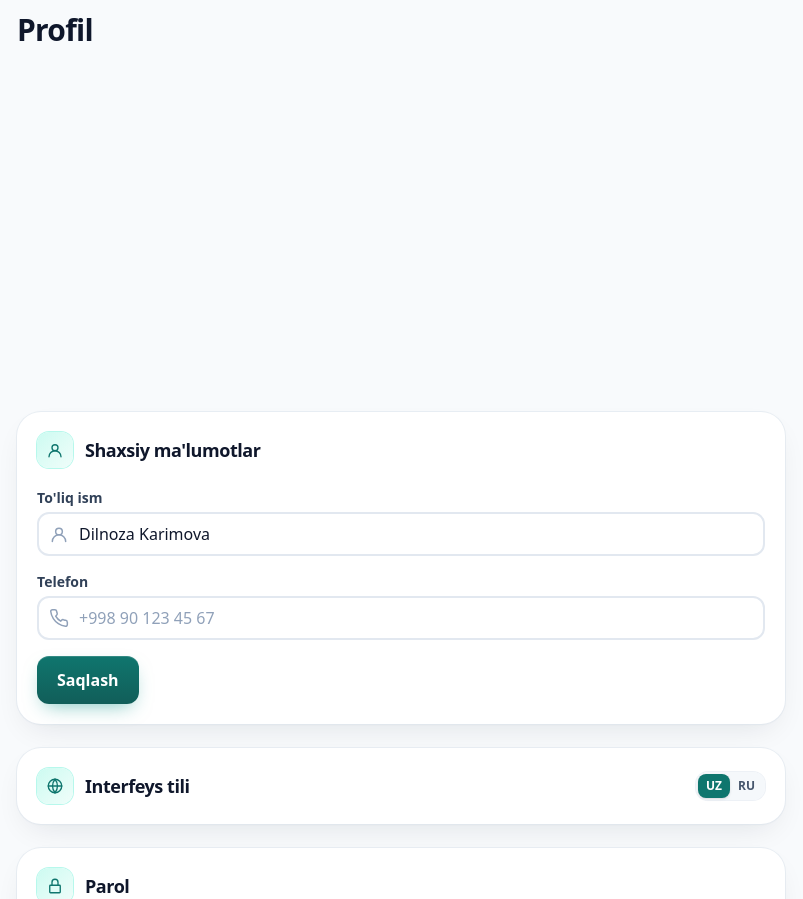
Test case: ism 2 belgidan kam bo'lsa xato ko'rsatiladi va so'rov yuborilmaydi
Replace the text in the field labelled "To'liq ism" with "A" at x=401, y=534, box [37, 512, 765, 556]
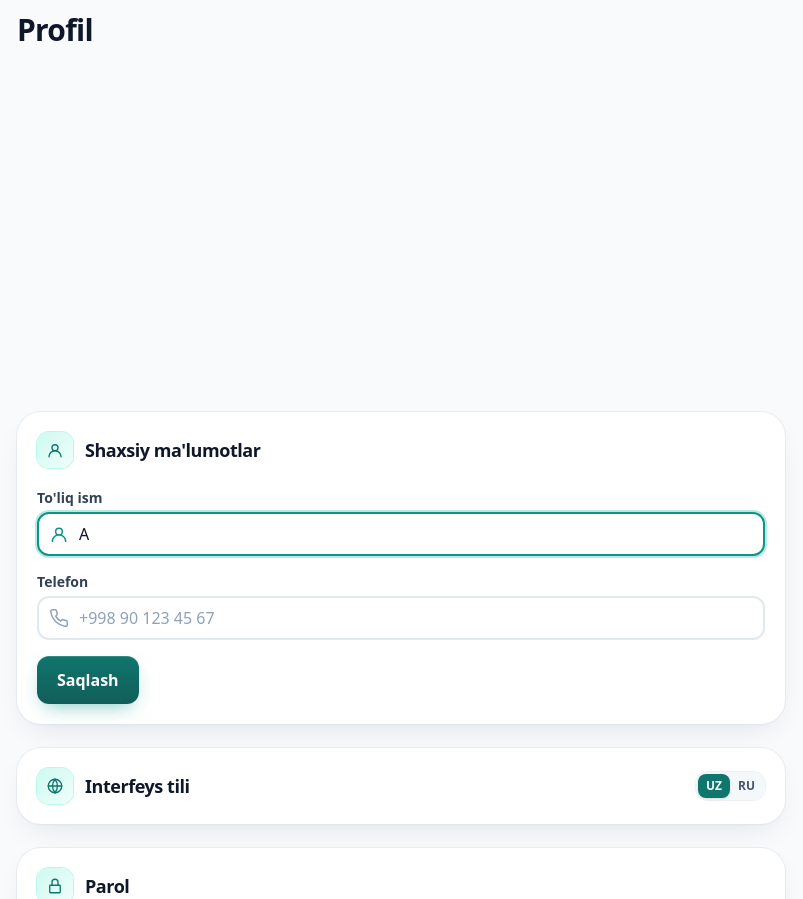
Click the button "Saqlash" at x=88, y=680, box [37, 656, 139, 704]
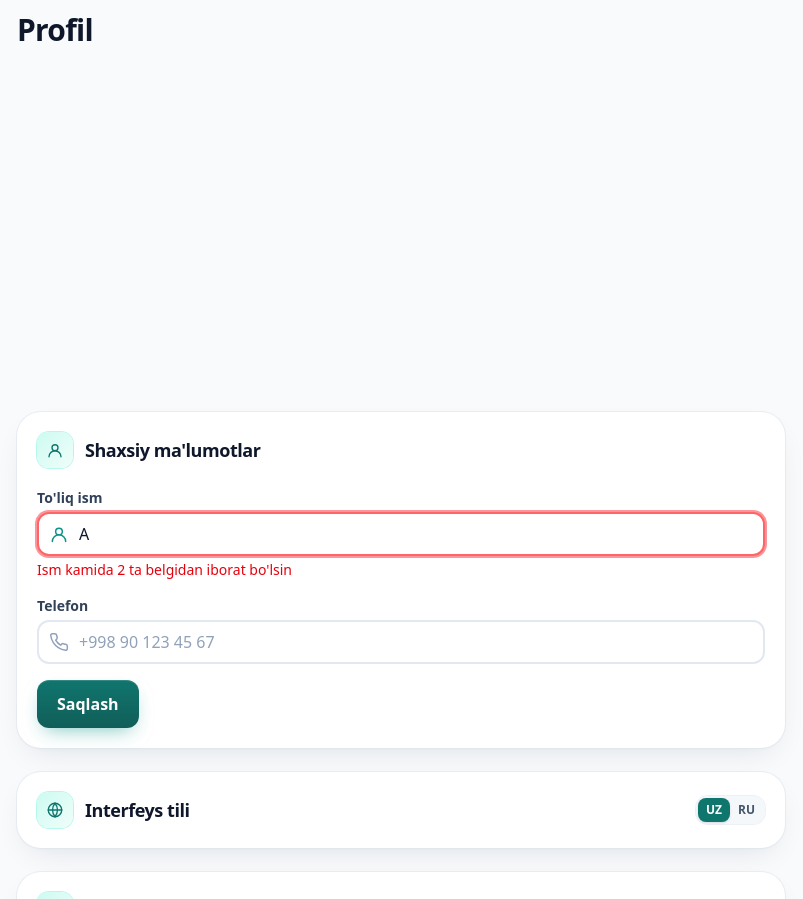
Expected: the text "Ism kamida 2 ta belgidan iborat bo'lsin" is shown, [37, 560, 292, 579]
